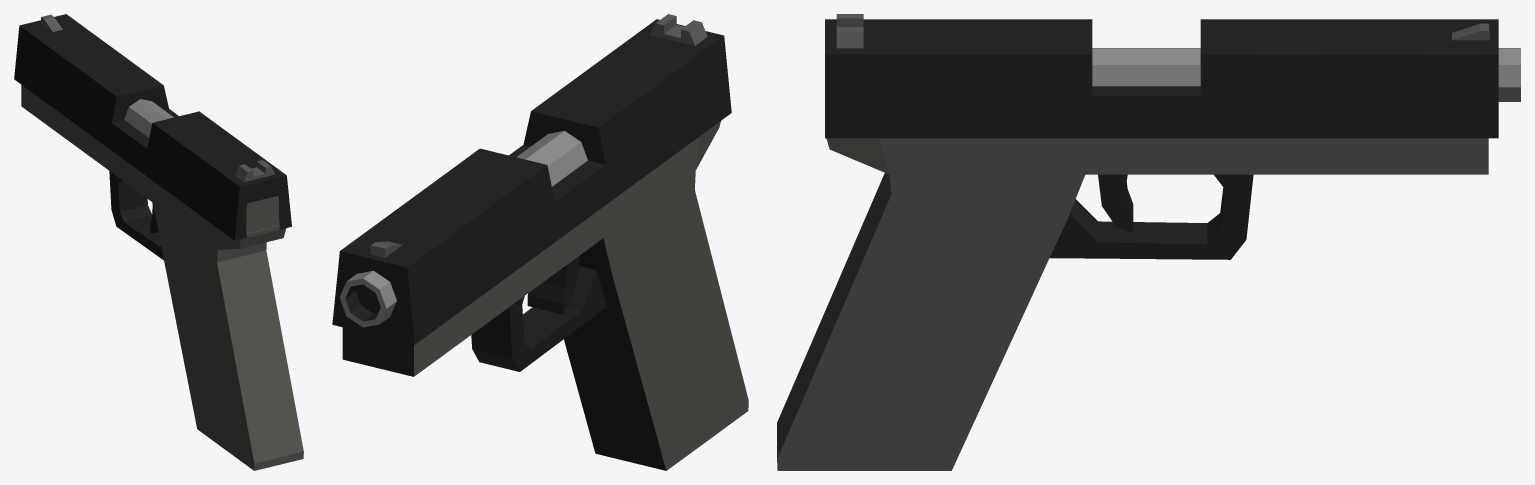
The model's file is Edge14.glb.
The picture shows the model from 3 angles, left to right: view 1: azimuth 30°, elevation 25°; view 2: azimuth 150°, elevation 25°; view 3: azimuth 270°, elevation 25°; orthographic projection. The views are drawn at different scales.
Parts seen in each view (by area): view 1: Edge 14; view 2: Edge 14; view 3: Edge 14.
Part boxes in pixels (bbox=[...]): Edge 14: bbox=[14, 14, 303, 470]; Edge 14: bbox=[332, 14, 748, 470]; Edge 14: bbox=[777, 14, 1520, 470].
Bounding box in the file's own units: 0.0263 × 0.1232 × 0.1933.
1 material, 1 textured.
